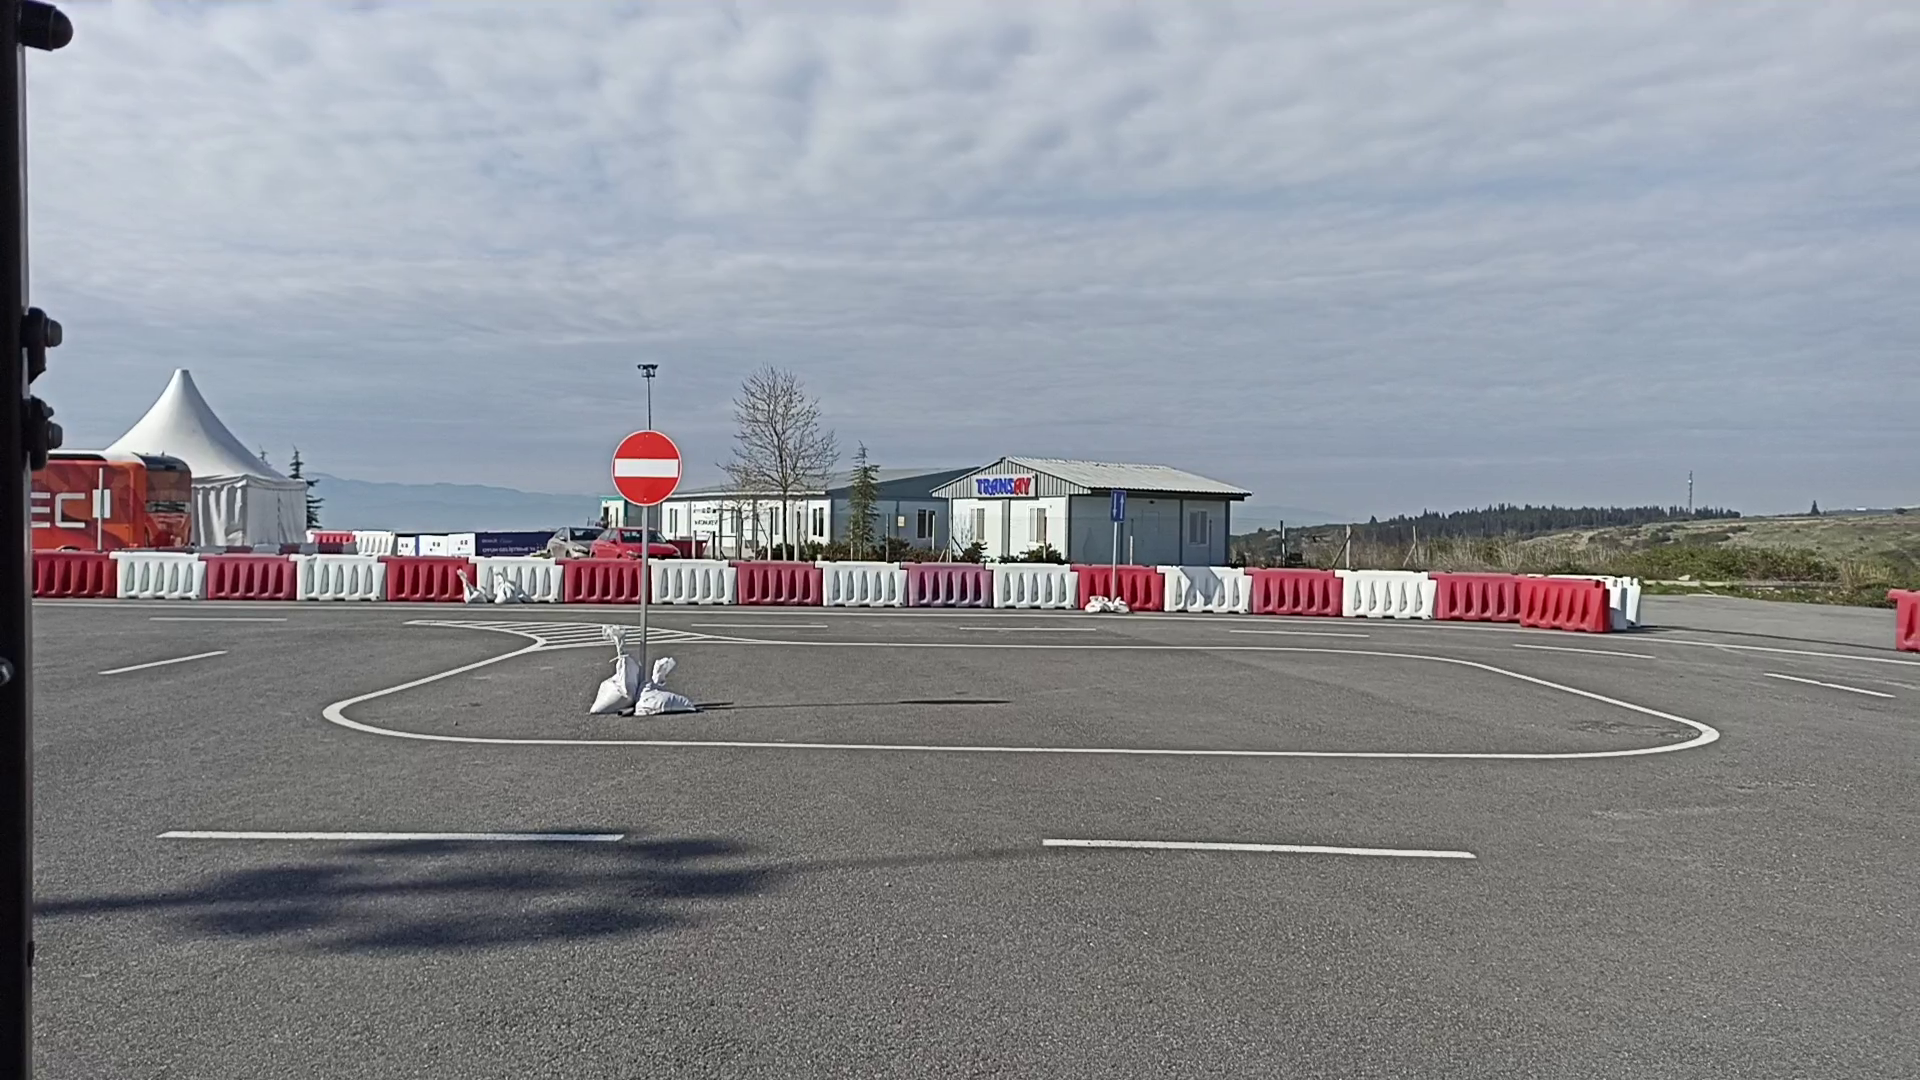noentryway: (611, 427, 684, 509)
